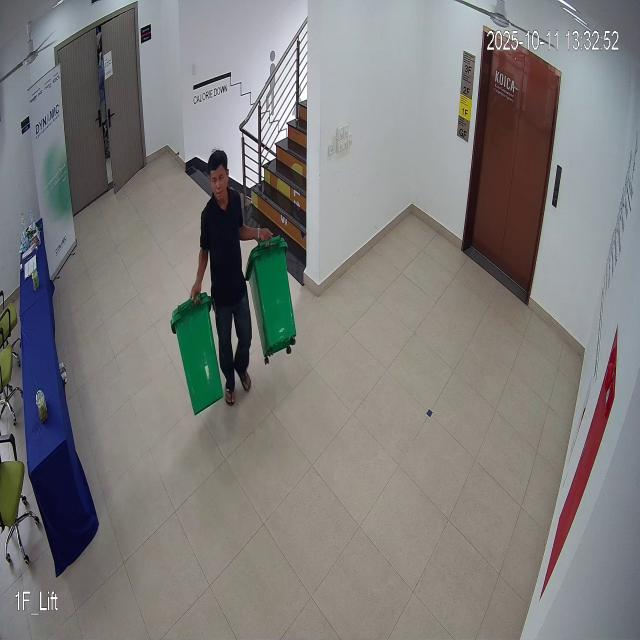face: (205, 137, 231, 207)
